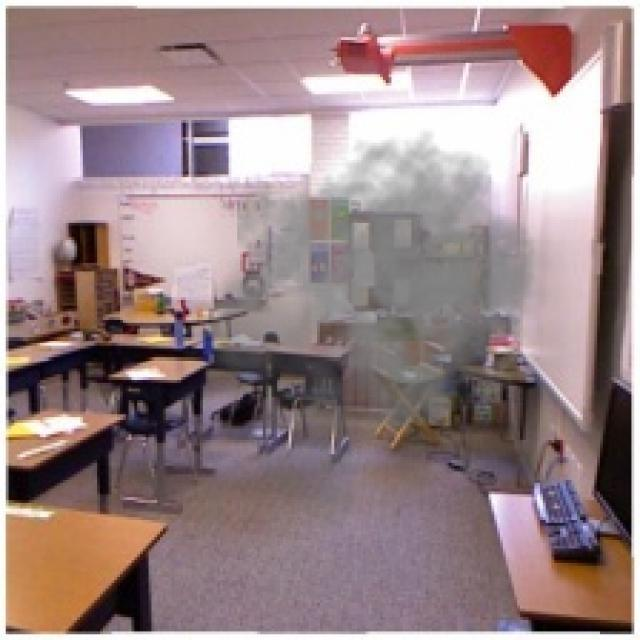Smoke: (191, 128, 563, 534)
